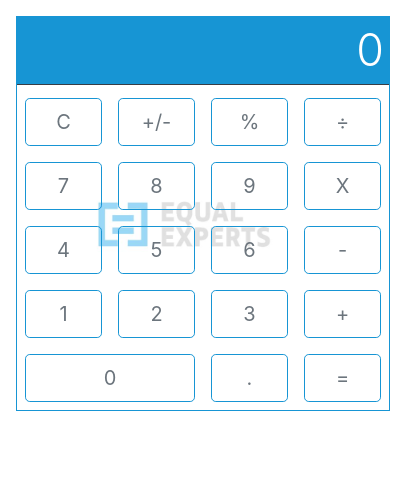
Test: Calculator › calculation › click --> 2 --> ÷ --> 0 --> =, shows error in display
Click the button "2" at (156,314), box x1=118 y1=290 x2=195 y2=338
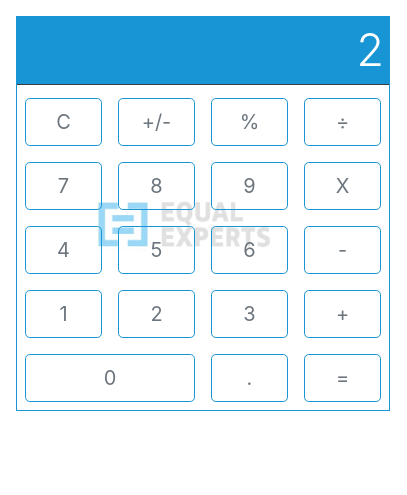
Click the button "÷" at (342,122), box x1=304 y1=98 x2=381 y2=146
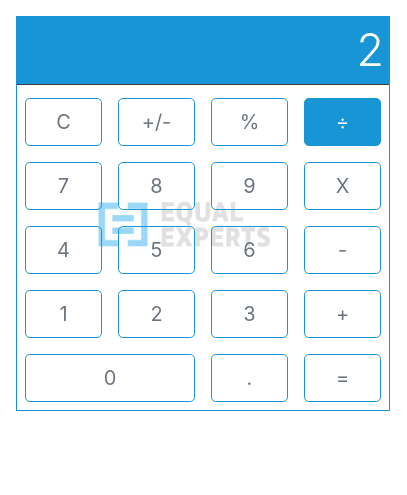
Click the button "0" at (110,378), box x1=25 y1=354 x2=195 y2=402
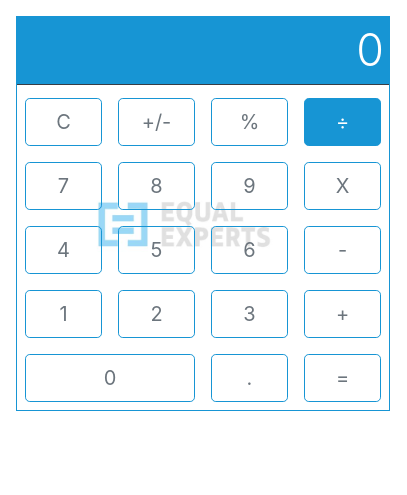
Click the button "=" at (342,378), box x1=304 y1=354 x2=381 y2=402
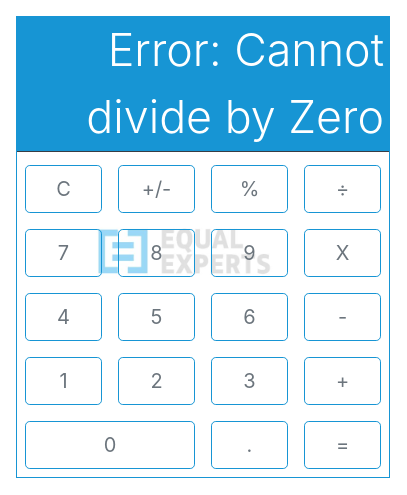
Expected: the text with class "display" shows "Cannot divide by Zero", x1=86 y1=23 x2=384 y2=144
